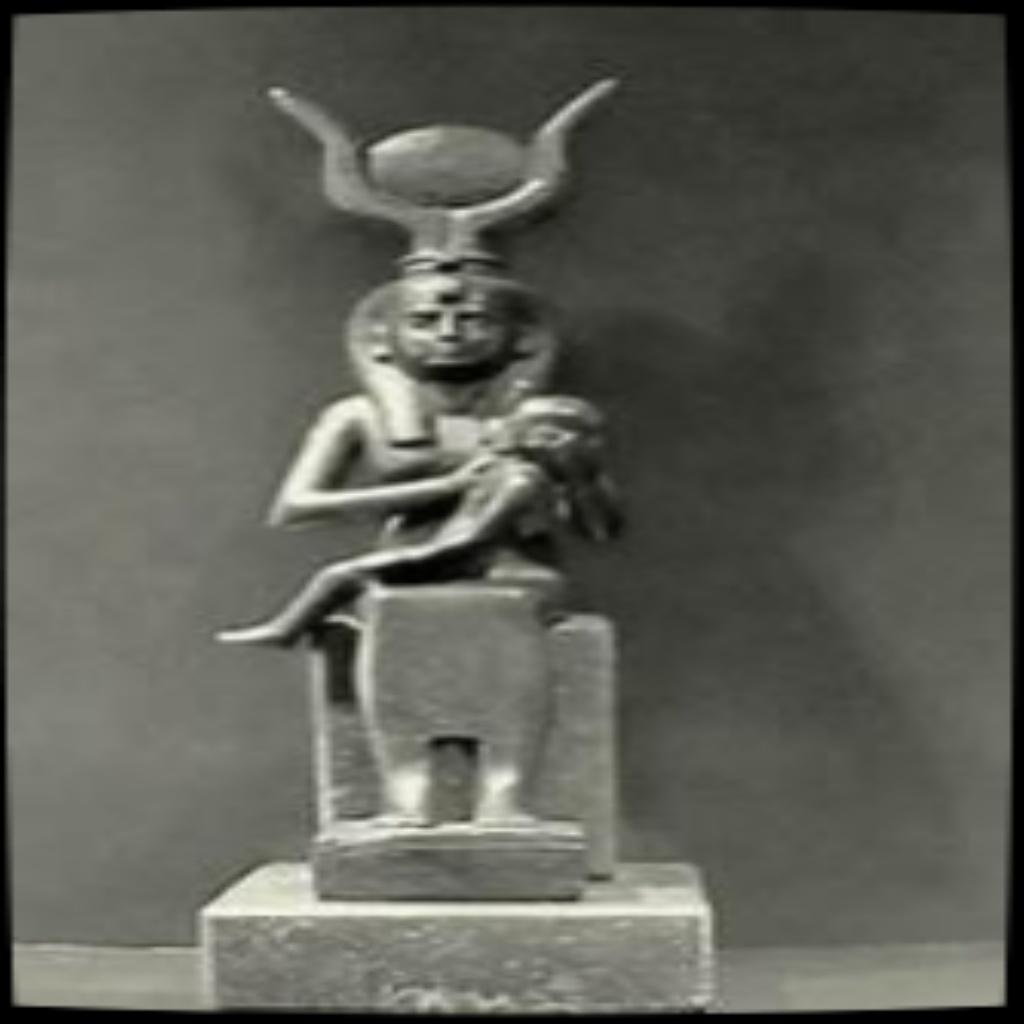Isis with her child: (202, 66, 668, 898)
